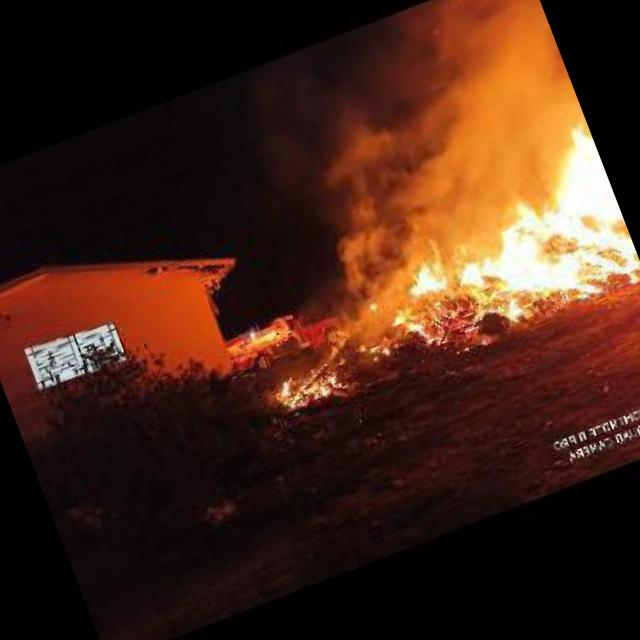fire: (420, 119, 640, 334), (278, 362, 348, 418), (391, 304, 434, 356), (400, 256, 450, 300)
smoke: (262, 29, 528, 300)
